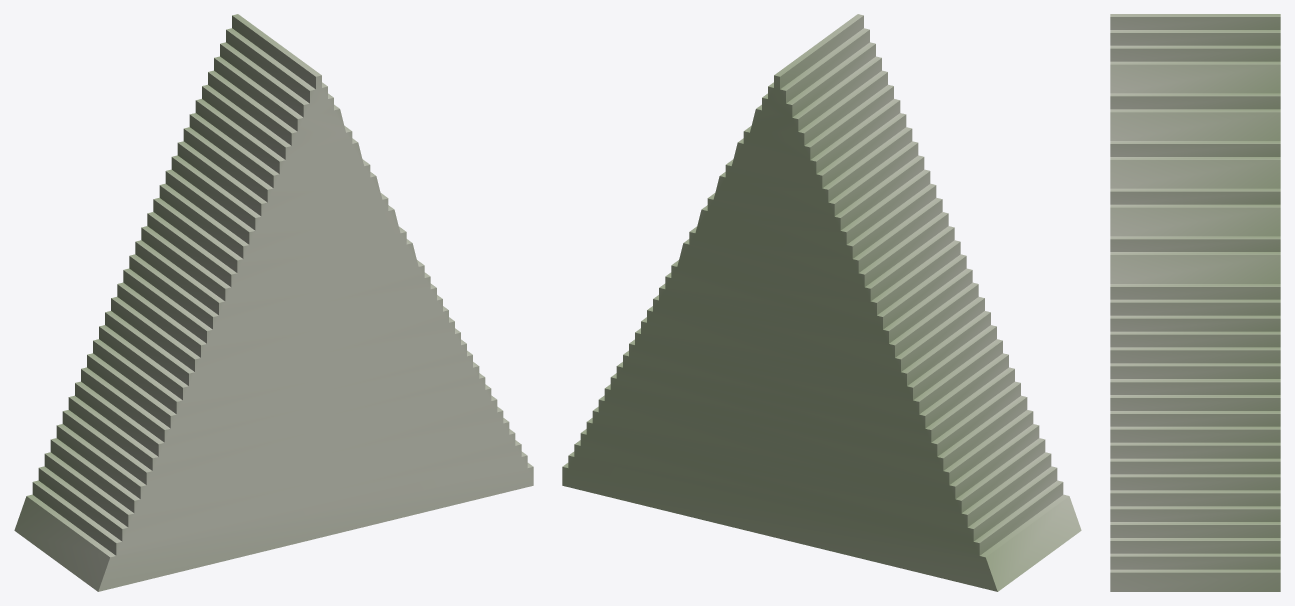
The picture shows the model from 3 angles, left to right: view 1: azimuth 30°, elevation 25°; view 2: azimuth 150°, elevation 25°; view 3: azimuth 270°, elevation 25°; orthographic projection.
Parts seen in each view (by area): view 1: geometry_0; view 2: geometry_0; view 3: geometry_0.
Part boxes in pixels (x1,y1,x2,y2): geometry_0: (14, 14, 533, 591); geometry_0: (562, 14, 1081, 591); geometry_0: (1110, 14, 1280, 591).
Size of the model in its own units: 1.5 by 1.52 by 0.5.
